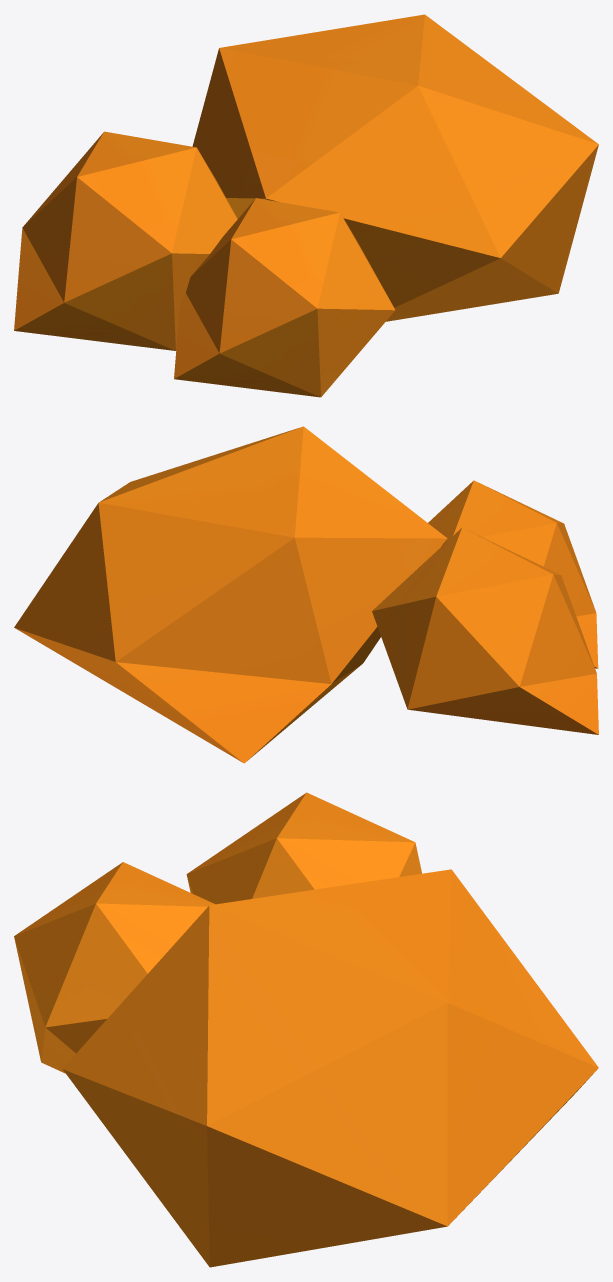
The model's file is Small_Rock_3.fbx.
The picture shows the model from 3 angles, top to bottom: view 1: azimuth 30°, elevation 25°; view 2: azimuth 150°, elevation 25°; view 3: azimuth 270°, elevation 25°; orthographic projection. The views are drawn at different scales.
Parts seen in each view (by area): view 1: Small_Rock_3; view 2: Small_Rock_3; view 3: Small_Rock_3.
Part boxes in pixels (box(x1,y1,x2,y2)): Small_Rock_3: box(14, 14, 598, 397); Small_Rock_3: box(14, 426, 598, 763); Small_Rock_3: box(14, 792, 598, 1267).
Bounding box in the file's own units: 0.9296 × 0.3915 × 0.7353.
